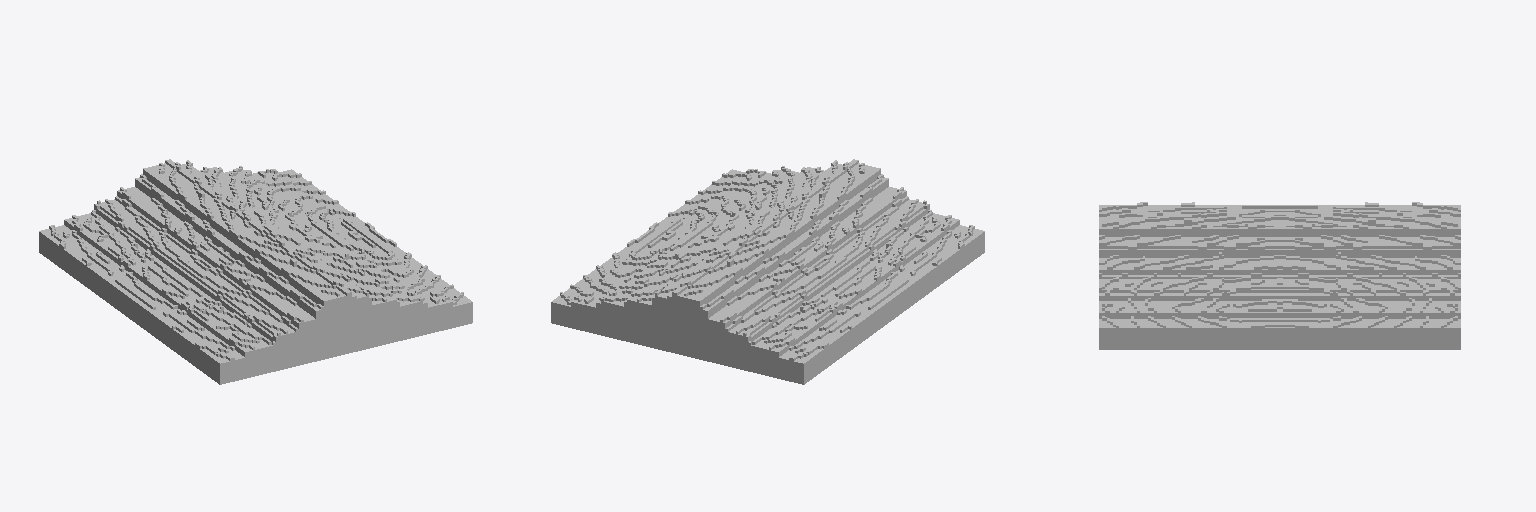
File: Salmon.obj
The picture shows the model from 3 angles: view 1: azimuth 30°, elevation 25°; view 2: azimuth 150°, elevation 25°; view 3: azimuth 270°, elevation 25°; orthographic projection.
Visible parts, largest first — view 1: object 1; view 2: object 1; view 3: object 1.
Boxes of the visible parts, <box> form: object 1: <box>39,159,472,384</box>; object 1: <box>551,159,984,384</box>; object 1: <box>1099,202,1460,349</box>.
Bounding box in the file's own units: 10 × 2.4 × 12.4.